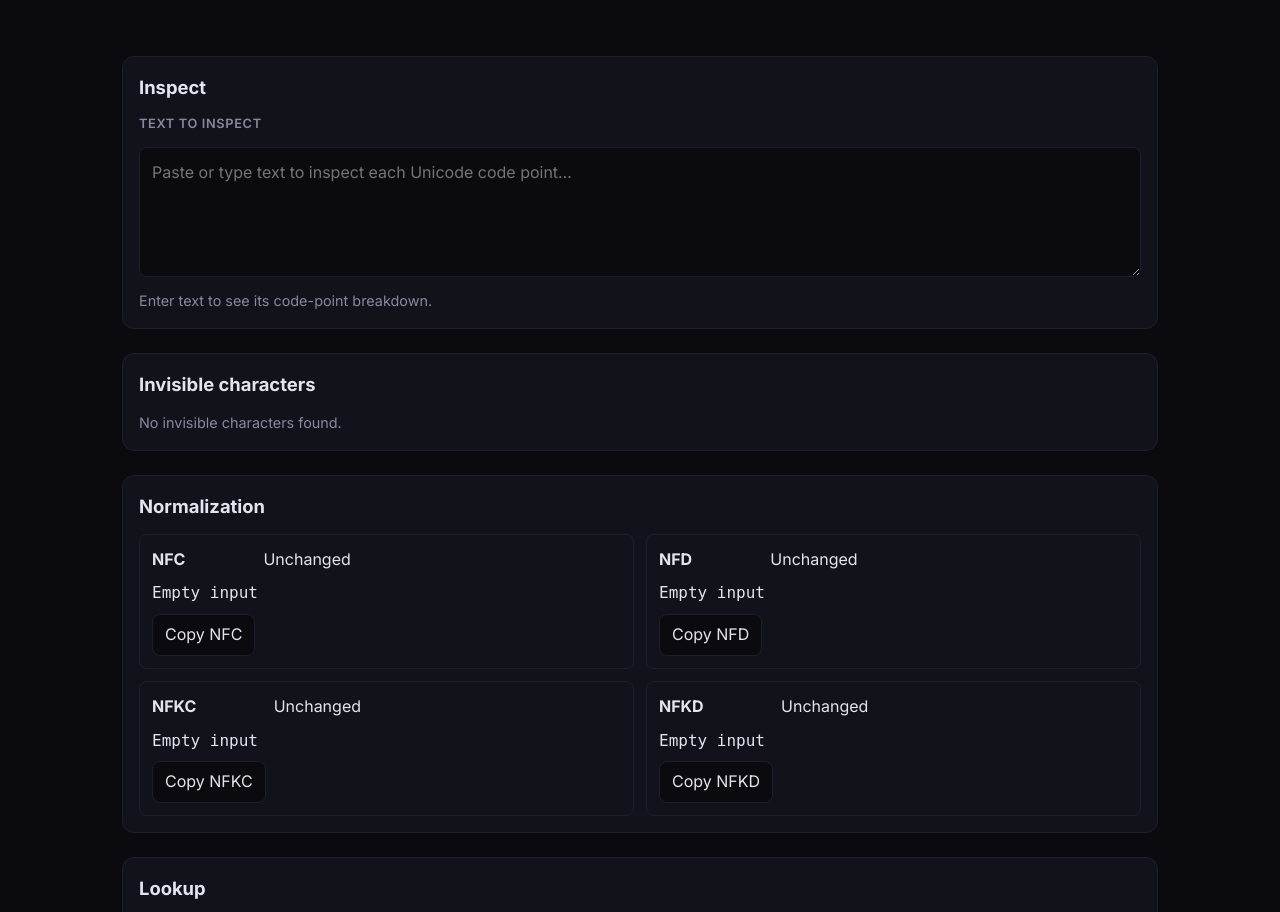
Scenario: UnicodeTool › reports copy success and failure through the live status region
This screenshot has width=1280, height=912.
Click the button with aria-label "Copy NFC normalization" at (204, 635), box [152, 614, 256, 656]
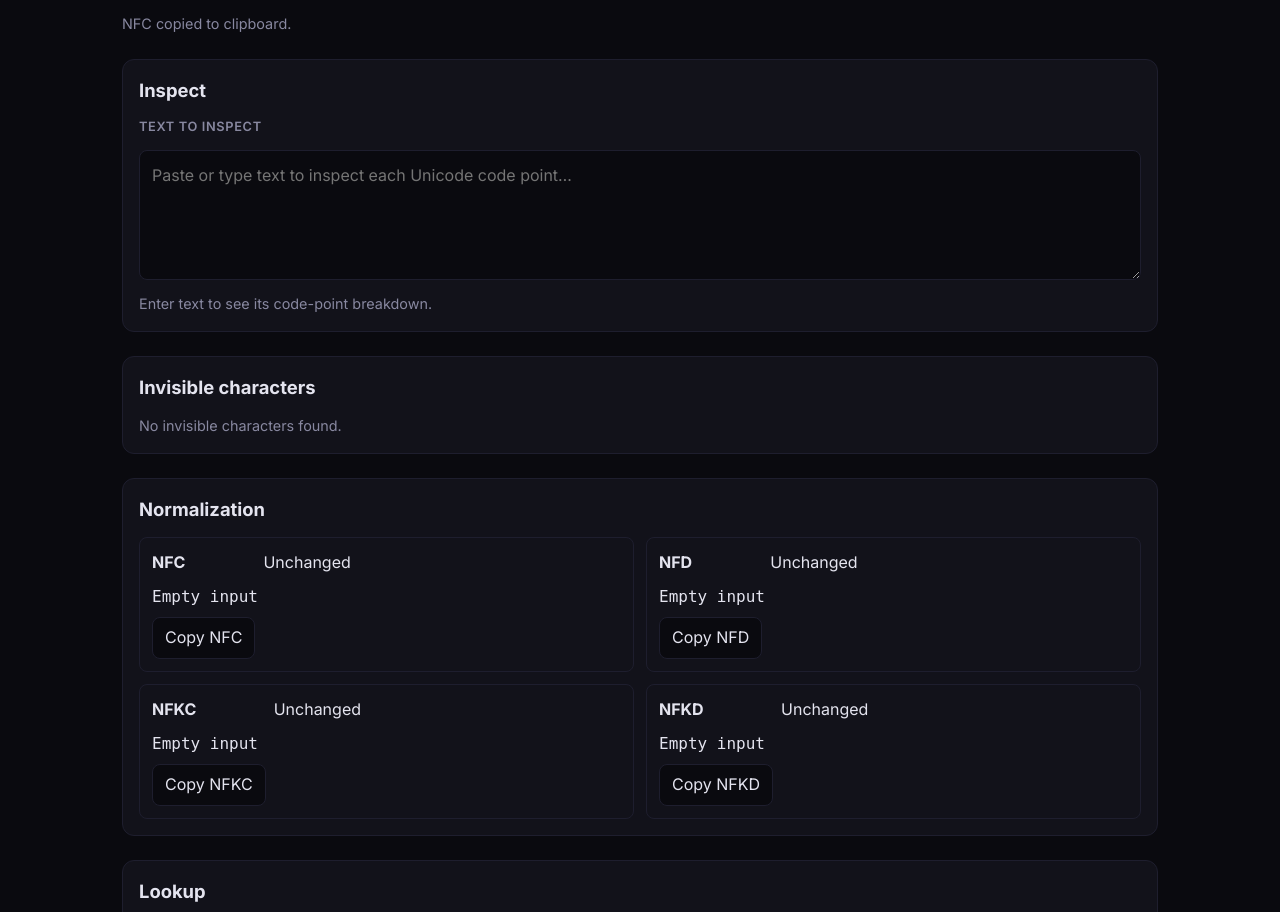
Now the text "NFC copied to clipboard." is shown, box [122, 15, 291, 32]
Click the button with aria-label "Copy NFD normalization" at (711, 638), box [659, 617, 762, 659]
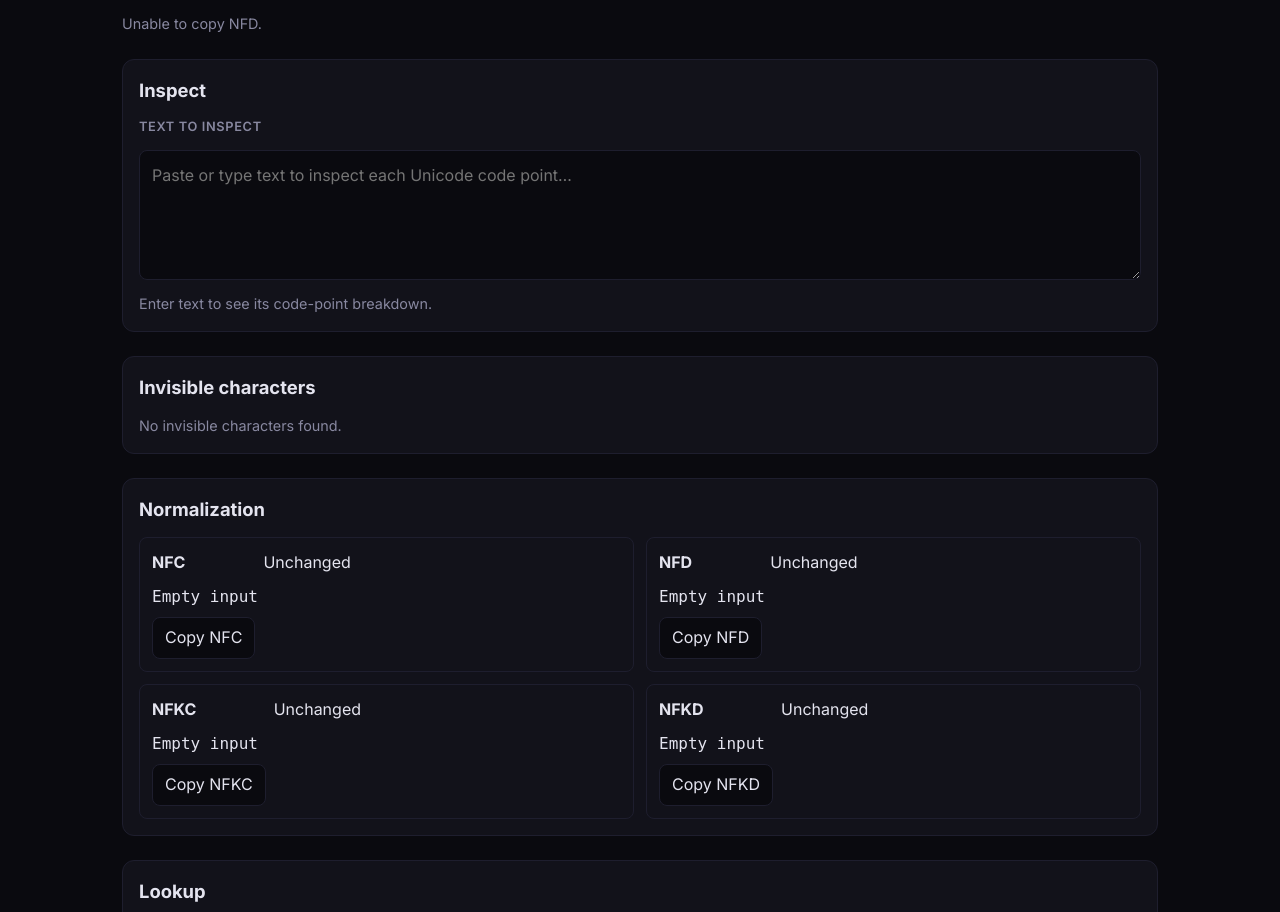
Now the text "Unable to copy NFD." is shown, box [122, 15, 262, 32]
